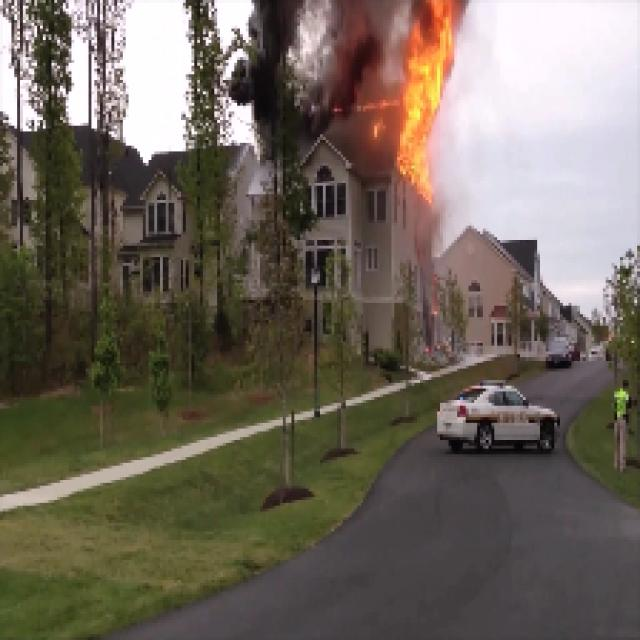fire: (399, 0, 464, 188)
smoke: (257, 2, 395, 100)
